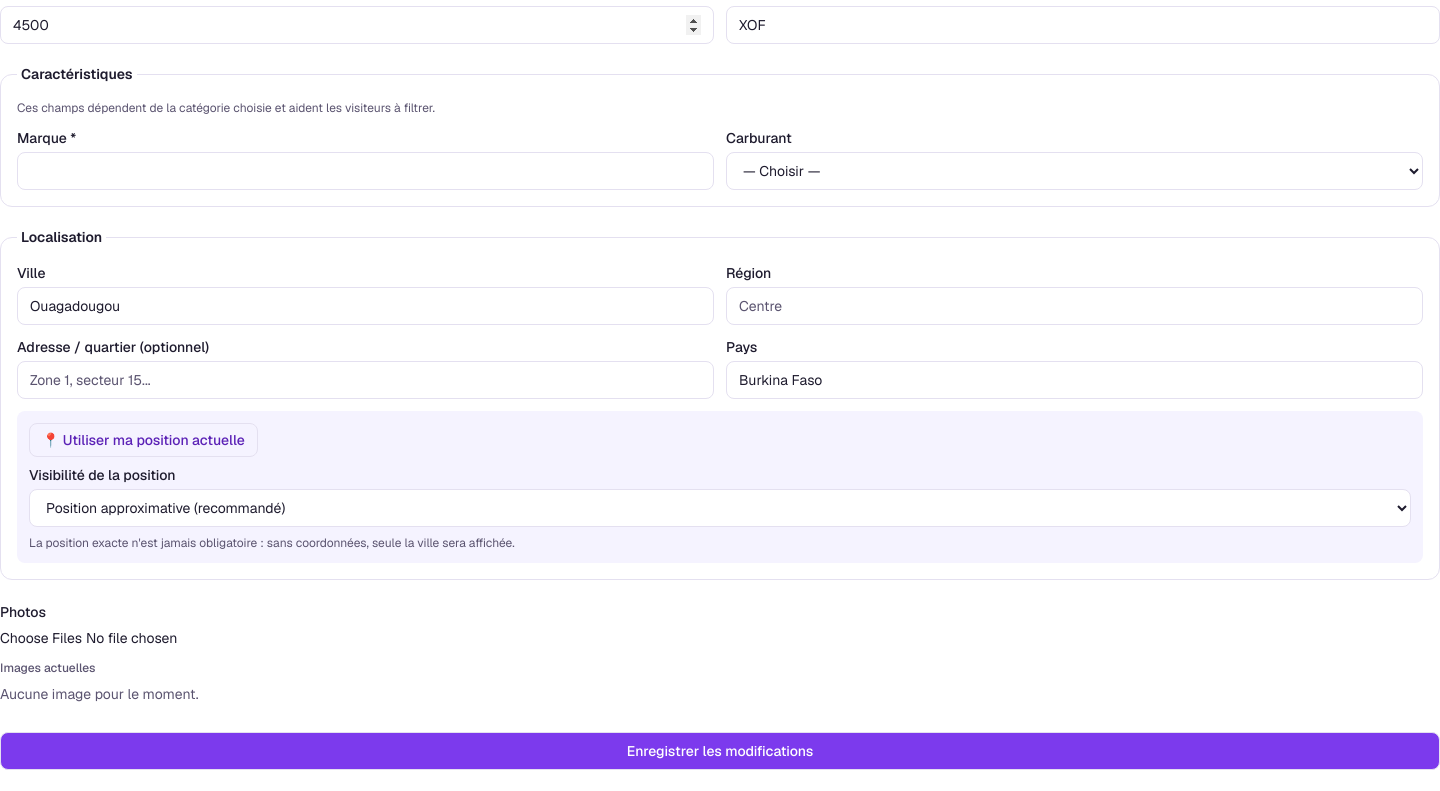
ProductForm › maps a server-side attribute error back onto its field
(page scrolled)
expect the field labelled "Marque *" is shown: met, box [17,152,714,190]
Click the button "Enregistrer les modifications".
click(720, 751)  # box [0,732,1439,770]
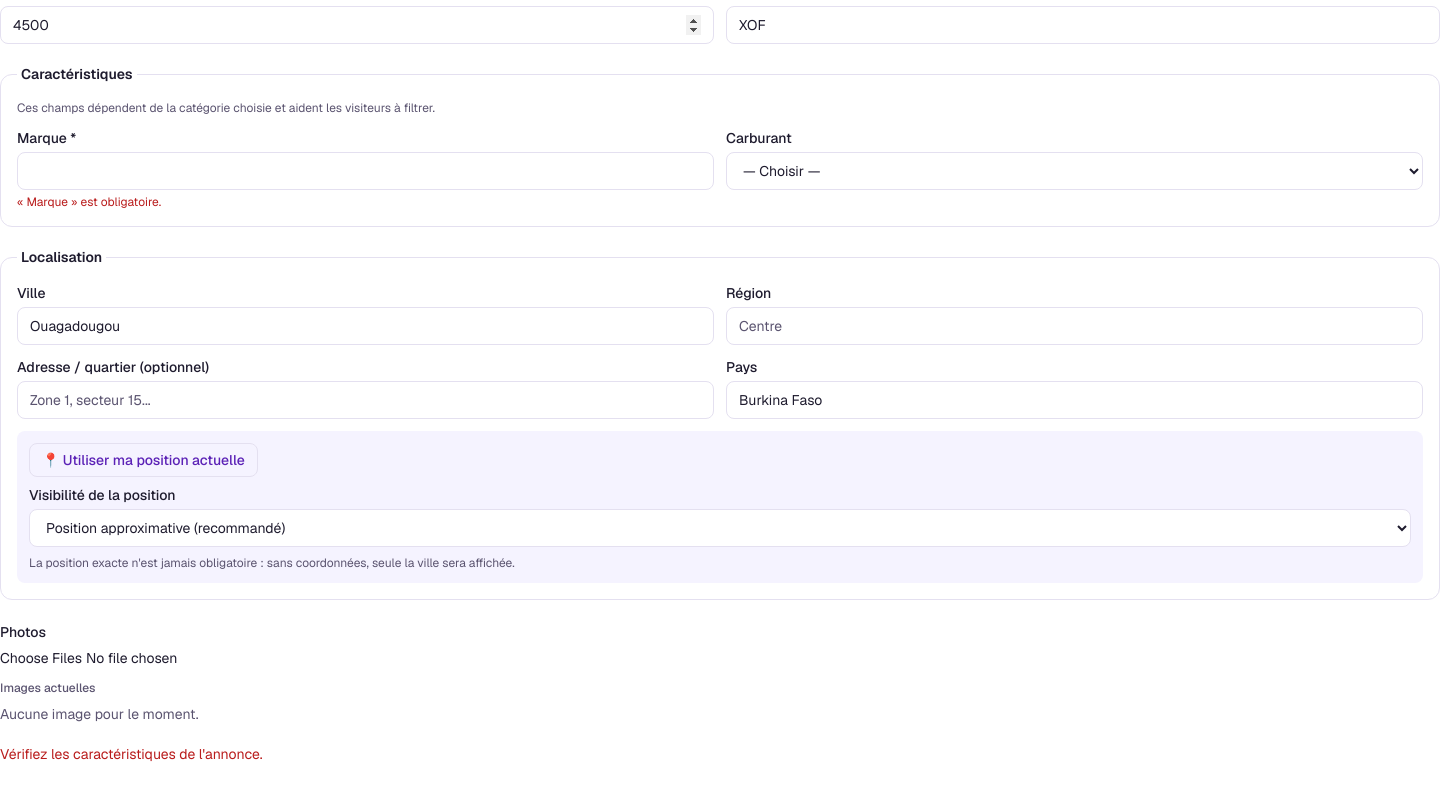
expect the text "« Marque » est obligatoire." is shown: met, box [17,194,161,210]
expect the text "Vérifiez les caractéristiques de l'annonce." is shown: met, box [0,745,263,763]
